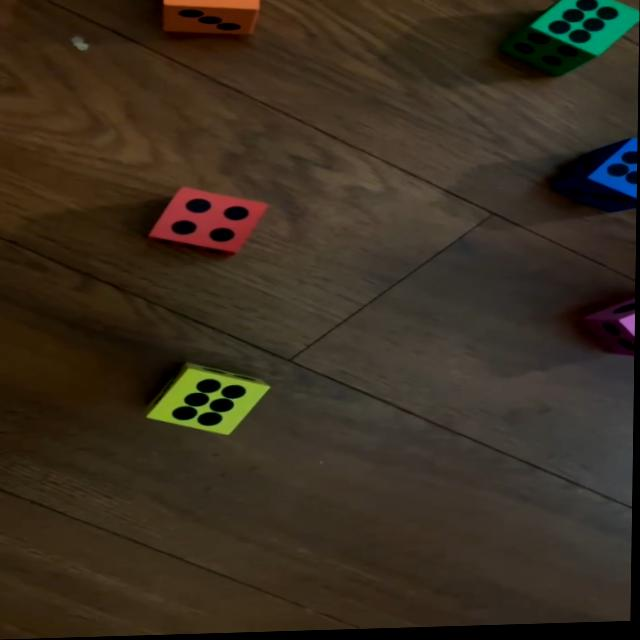blue_block: (557, 143, 638, 218)
red_block: (150, 186, 267, 258)
